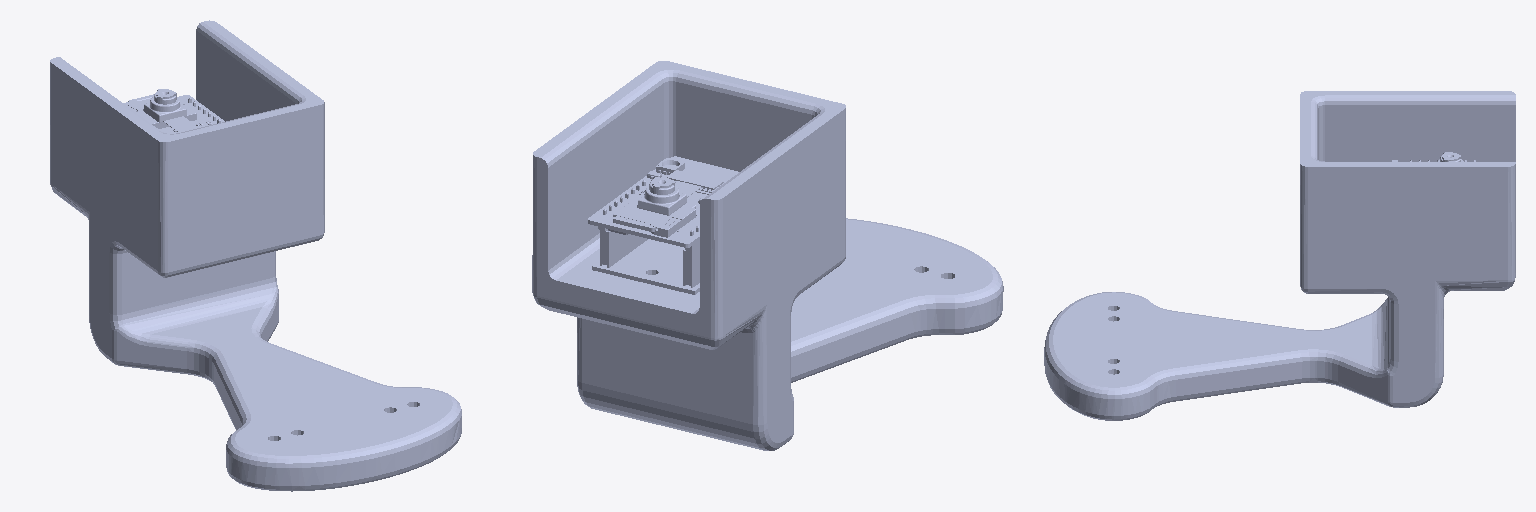
The robot description file, URDF, robot "eye_in_hand_camera":
<?xml version="1.0" encoding="utf-8"?>
<!-- This URDF was automatically created by SolidWorks to URDF Exporter! Originally created by [author] ([email redacted]) 
     Commit Version: 1.6.0-4-g7f85cfe  Build Version: 1.6.7995.38578
     For more information, please see http://wiki.ros.org/sw_urdf_exporter -->
<robot
  name="eye_in_hand_camera">
  <link
    name="camera_fixation">
    <inertial>
      <origin
        xyz="-5.43071216944219E-07 0.0610175397843626 0.0278321654677833"
        rpy="0 0 0" />
      <mass
        value="0.111512757258877" />
      <inertia
        ixx="0.000186503471337719"
        ixy="-1.69626348304093E-08"
        ixz="4.24161109771058E-10"
        iyy="8.30008082027743E-05"
        iyz="-4.486315676084E-05"
        izz="0.000159890419329594" />
    </inertial>
    <visual>
      <origin
        xyz="0 0 0"
        rpy="0 0 0" />
      <geometry>
        <mesh
          filename="package://eye_in_hand_camera/meshes/camera_fixation.STL" />
      </geometry>
      <material
        name="">
        <color
          rgba="0.792156862745098 0.819607843137255 0.933333333333333 1" />
      </material>
    </visual>
    <collision>
      <origin
        xyz="0 0 0"
        rpy="0 0 0" />
      <geometry>
        <mesh
          filename="package://eye_in_hand_camera/meshes/camera_fixation.STL" />
      </geometry>
    </collision>
  </link>
  <link
    name="camera">
    <inertial>
      <origin
        xyz="-0.000214789208294226 -0.00859653380921056 -0.0127088225414887"
        rpy="0 0 0" />
      <mass
        value="0.00526823039045375" />
      <inertia
        ixx="3.61325460574644E-07"
        ixy="-8.42039670403038E-10"
        ixz="-1.32258782224661E-10"
        iyy="1.72552909734866E-07"
        iyz="2.49313101261162E-10"
        izz="5.16628342181524E-07" />
    </inertial>
    <visual>
      <origin
        xyz="0 0 0"
        rpy="0 0 0" />
      <geometry>
        <mesh
          filename="package://eye_in_hand_camera/meshes/camera.STL" />
      </geometry>
      <material
        name="">
        <color
          rgba="0.792156862745098 0.819607843137255 0.933333333333333 1" />
      </material>
    </visual>
    <collision>
      <origin
        xyz="0 0 0"
        rpy="0 0 0" />
      <geometry>
        <mesh
          filename="package://eye_in_hand_camera/meshes/camera.STL" />
      </geometry>
    </collision>
  </link>
  <joint
    name="camera_mount"
    type="fixed">
    <origin
      xyz="0.00025 0.09397 0.06673"
      rpy="0 0 0" />
    <parent
      link="camera_fixation" />
    <child
      link="camera" />
    <axis
      xyz="0 0 0" />
  </joint>
</robot>

--- What the picture shows (computed from the rendered views, not written in the file) ---
Views: 3 orthographic renders of the robot side by side, from view 1: azimuth 30°, elevation 25°; view 2: azimuth 150°, elevation 25°; view 3: azimuth 270°, elevation 25°.
Robot: eye_in_hand_camera — 2 links, 1 joints (1 fixed); root link camera_fixation; default pose: all joints at 0.
Visible links, largest first — view 1: camera_fixation, camera; view 2: camera_fixation, camera; view 3: camera_fixation.
Boxes of the visible links, x1,y1,x2,y2 form: camera_fixation: (50,20,461,491); camera: (123,89,224,133); camera_fixation: (532,61,1003,450); camera: (588,156,738,294); camera_fixation: (1044,91,1515,420).
Size in the robot's own frame: 0.0677 by 0.1313 by 0.075 metres.
2 mesh visuals loaded from 2 distinct referenced files (2 binary STL).